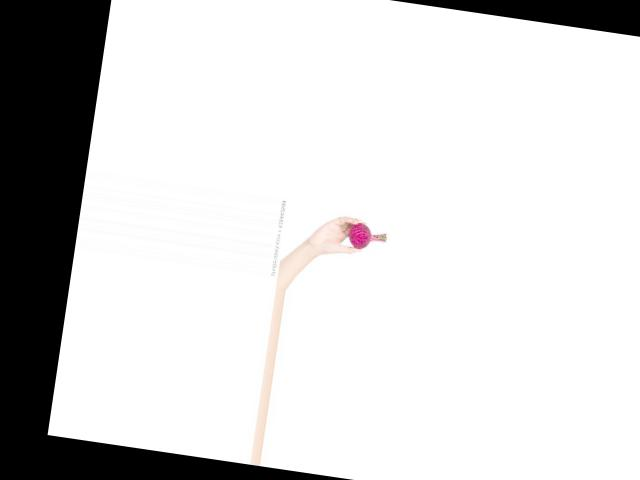beet: (348, 221, 388, 252)
